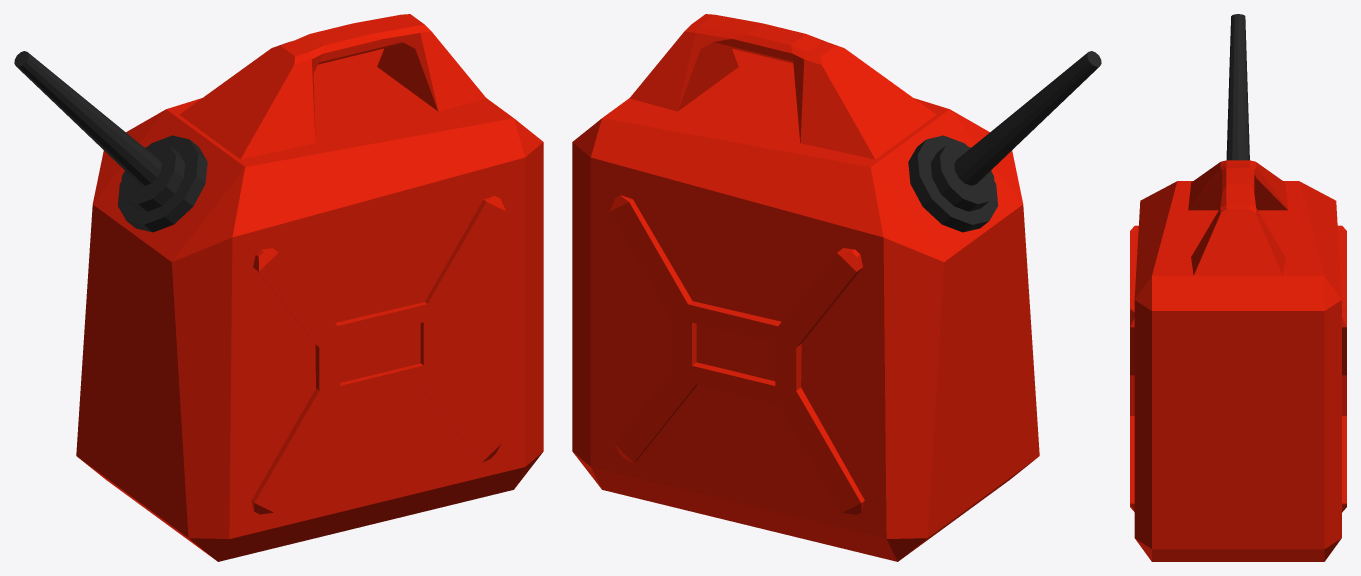
File: GasolineContainer2.fbx
3 views of the same model, side by side, from view 1: azimuth 30°, elevation 25°; view 2: azimuth 150°, elevation 25°; view 3: azimuth 270°, elevation 25° (orthographic). The views are drawn at different scales.
Parts seen in each view (by area): view 1: Container2; view 2: Container2; view 3: Container2.
Boxes of the visible parts, x1,y1,x2,y2 form: Container2: [14, 14, 543, 561]; Container2: [572, 14, 1101, 561]; Container2: [1130, 14, 1346, 561].
Size of the model in its own units: 158 by 161 by 81.92.
